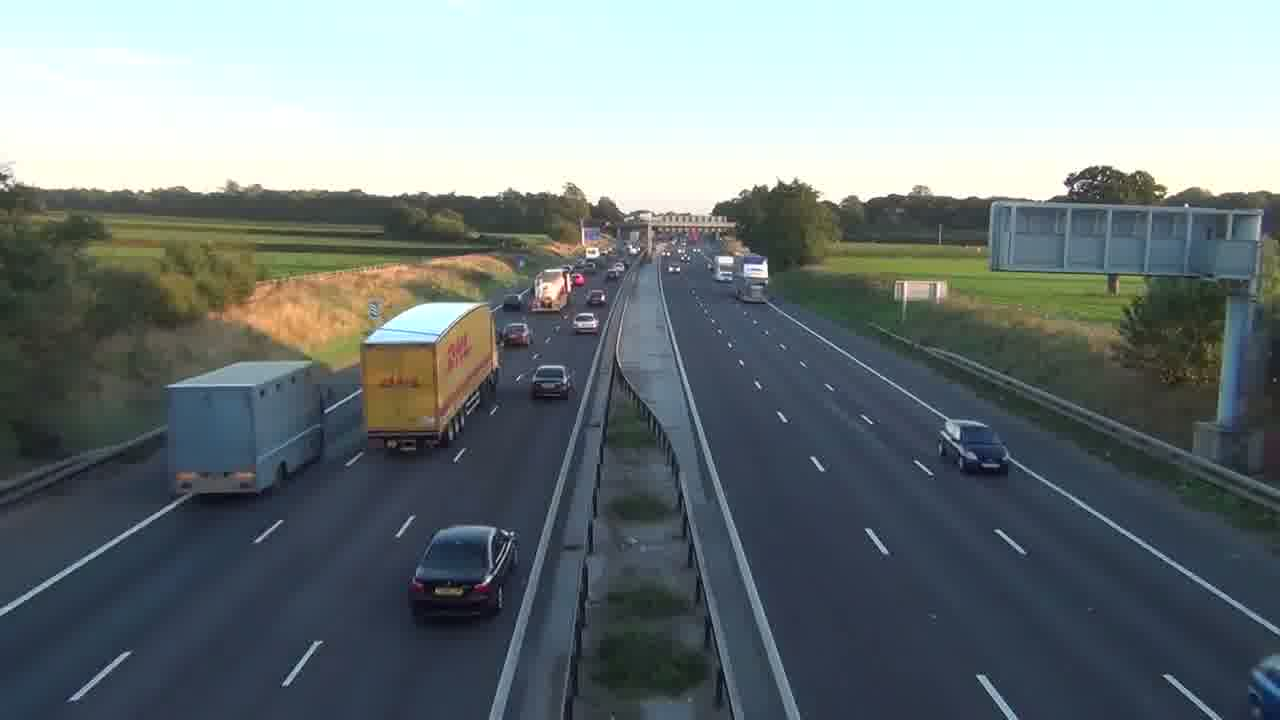car: (407, 524, 519, 622), (937, 418, 1009, 474), (1247, 653, 1280, 719), (529, 364, 575, 400), (499, 320, 531, 347), (572, 311, 599, 335), (587, 288, 607, 308)
truck: (164, 359, 326, 500), (359, 299, 500, 454), (937, 418, 1009, 474)
